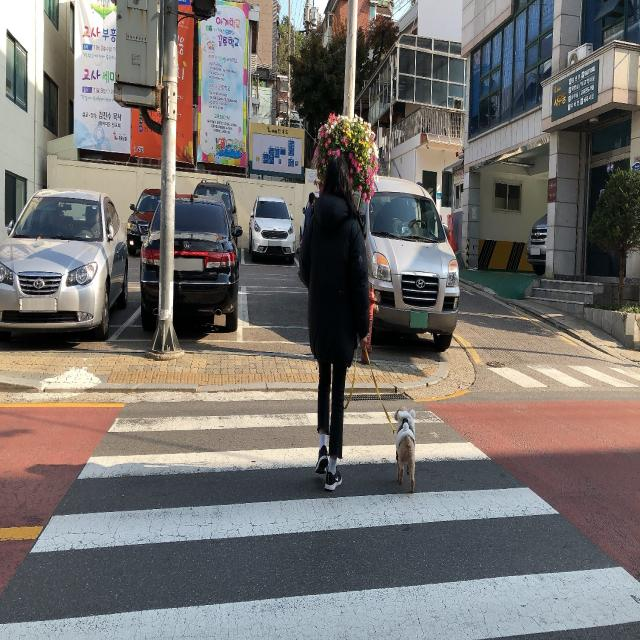횡단보도: (0, 411, 640, 639), (482, 360, 640, 403)
